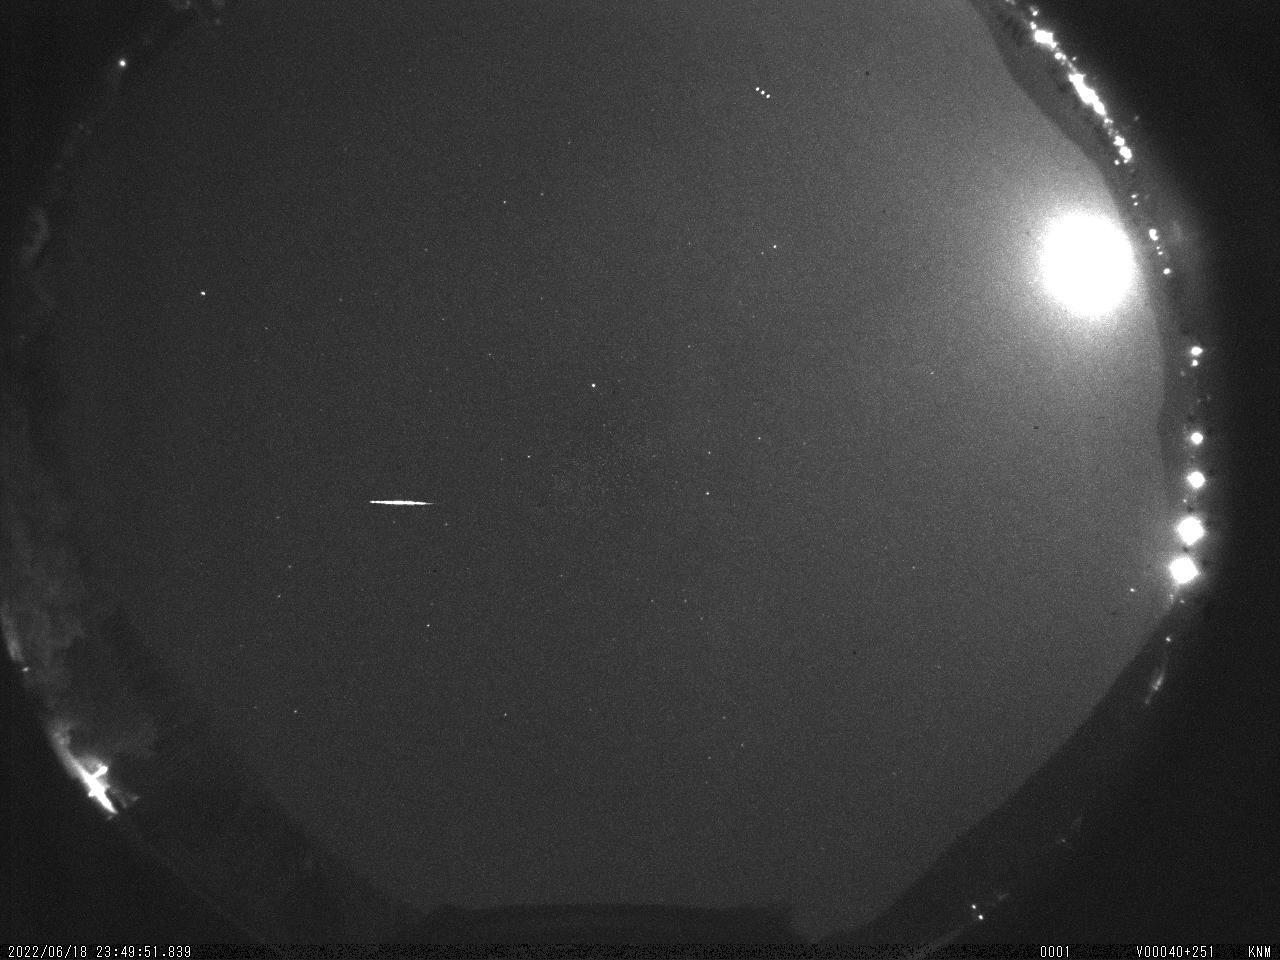Meteor: (364, 495, 435, 509)
